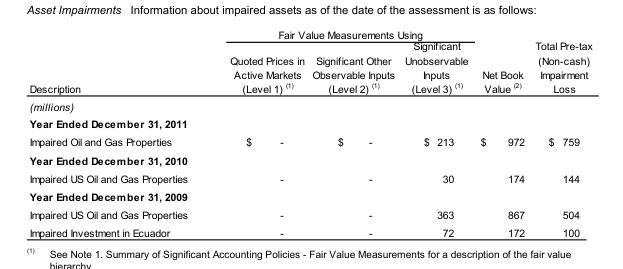table: (28, 28, 591, 237)
table column: (28, 28, 208, 237), (208, 28, 307, 237), (307, 28, 399, 237), (399, 28, 473, 237), (529, 28, 591, 237), (473, 28, 529, 237)
table column header: (28, 28, 591, 97)
table projected row header: (28, 114, 591, 132), (28, 151, 591, 169), (28, 187, 591, 205), (28, 97, 591, 114)
table row: (28, 40, 591, 97), (28, 132, 591, 151), (28, 114, 591, 132), (28, 151, 591, 169), (28, 169, 591, 187), (28, 187, 591, 205), (28, 205, 591, 223), (28, 97, 591, 114), (28, 223, 591, 237), (28, 28, 591, 40)
table spanning cell: (28, 28, 208, 97), (529, 28, 591, 97), (473, 28, 529, 97), (208, 28, 473, 40)
